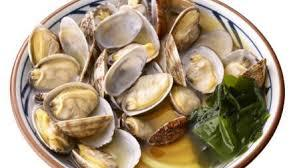asari: (8, 1, 287, 168)
